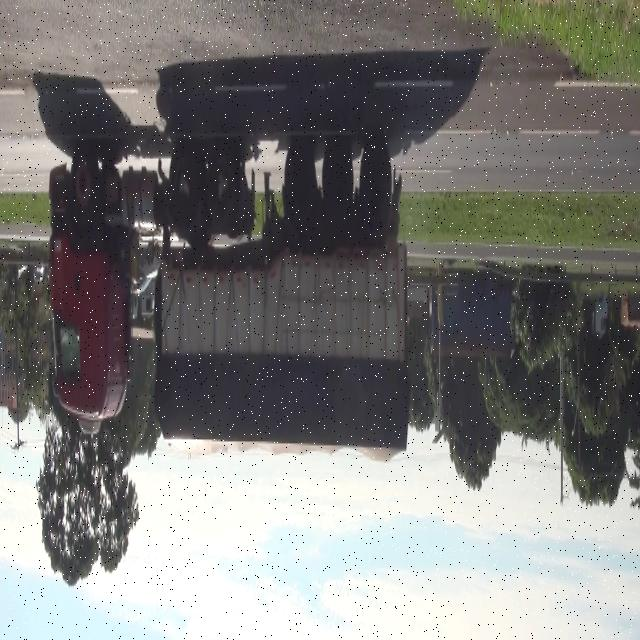-axle: (282, 134, 316, 233), (319, 136, 354, 230), (169, 138, 204, 229), (210, 137, 240, 223), (361, 140, 391, 224), (68, 144, 100, 222)
